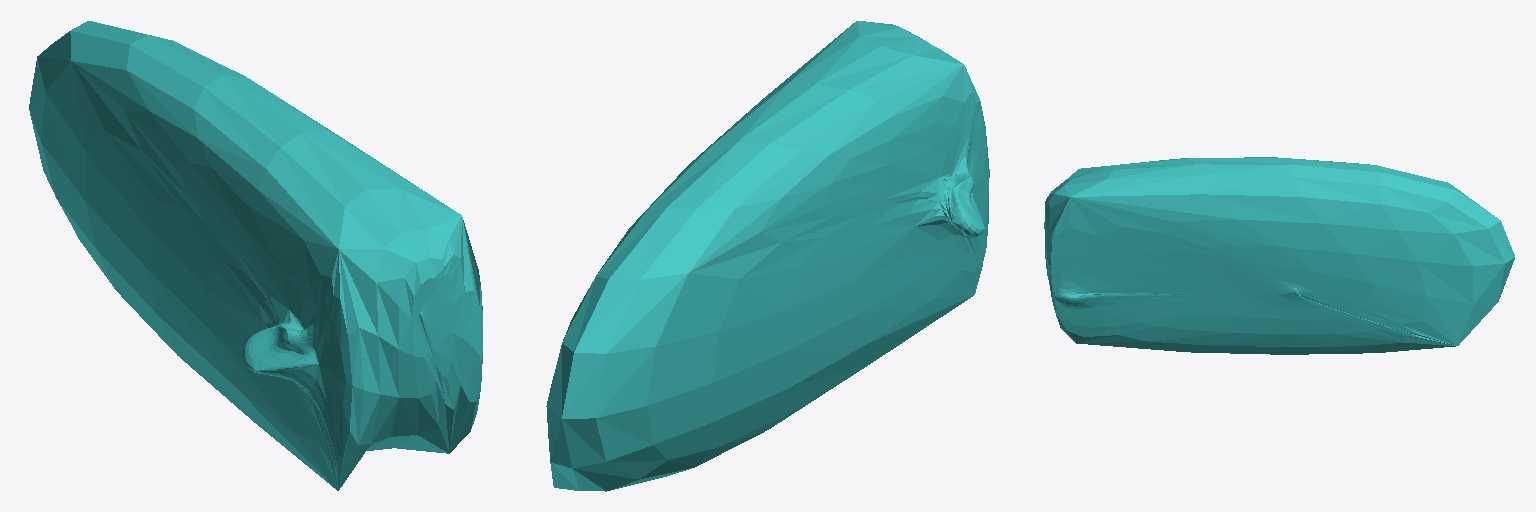
robot.urdf — blob197:

<robot name="blob197">
  <link name="random_obj_197">
    <contact>
      <lateral_friction value="1.0"/>
      <rolling_friction value="0.0"/>
      <inertia_scaling value="3.0"/>
      <contact_cfm value="0.0"/>
      <contact_erp value="1.0"/>
    </contact>
    <inertial>
      <origin rpy="0 0 0" xyz="0 0 0"/>
      <mass value="0.0770"/>
      <inertia ixx="1" ixy="0" ixz="0" iyy="1" iyz="0" izz="0"/>
    </inertial>
    <visual>
      <origin rpy="0 0 0" xyz="0 0 0"/>
      <geometry>
        <mesh filename="197.obj" scale="0.0054 0.0054 0.0054"/>
      </geometry>
      <material name="blockmat">
        <color rgba="0.30 0.79 0.78 1"/>
      </material>
    </visual>
    <collision>
      <origin rpy="0 0 0" xyz="0 0 0"/>
      <geometry>
        <mesh filename="197_coll.obj" scale="0.0054 0.0054 0.0054"/>
      </geometry>
    </collision>
  </link>
</robot>

--- What the picture shows (computed from the rendered views, not written in the file) ---
3 views of the same robot in one strip: view 1: azimuth 30°, elevation 25°; view 2: azimuth 150°, elevation 25°; view 3: azimuth 270°, elevation 25° (orthographic).
Model blob197 with 1 links and 0 joints (none), rooted at random_obj_197, posed every joint at zero.
Links seen in each view (by area): view 1: random_obj_197; view 2: random_obj_197; view 3: random_obj_197.
Boxes of the visible links, x1,y1,x2,y2 form: random_obj_197: (29, 21, 482, 490); random_obj_197: (546, 21, 989, 491); random_obj_197: (1044, 157, 1514, 354).
Bounding box of the posed robot: 0.0167 × 0.0597 × 0.0257 m (x, y, z).
Meshes: 1 distinct files referenced, 1 mesh visuals loaded (1 OBJ).
